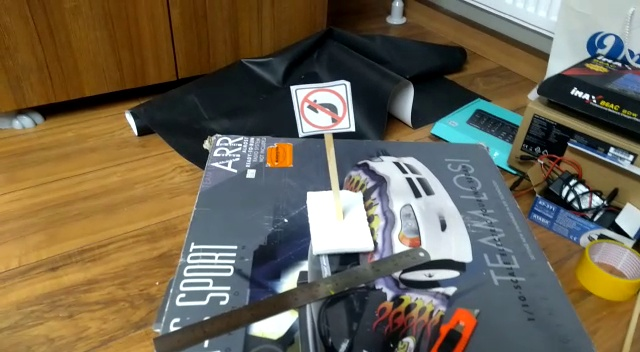sola_donulmez: (301, 80, 348, 136)
